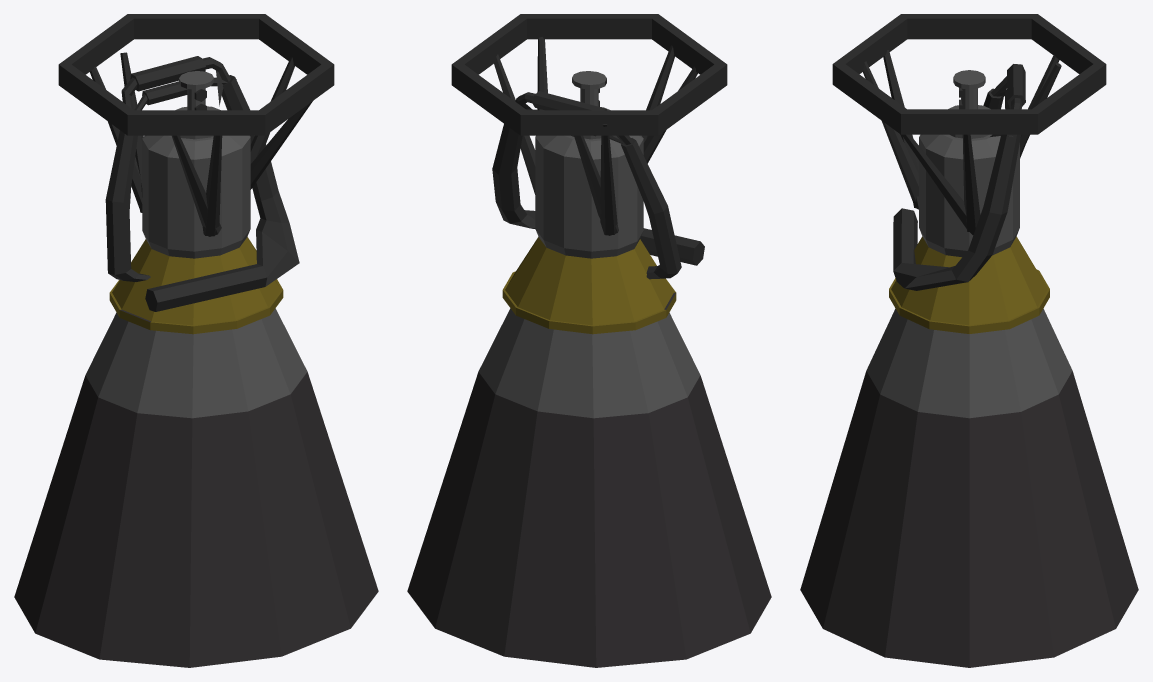
The picture shows the model from 3 angles, left to right: view 1: azimuth 30°, elevation 25°; view 2: azimuth 150°, elevation 25°; view 3: azimuth 270°, elevation 25°; orthographic projection.
Visible parts, largest first — view 1: Cylinder.001; view 2: Cylinder.001; view 3: Cylinder.001.
Boxes of the visible parts, x1,y1,x2,y2 form: Cylinder.001: [14, 14, 378, 667]; Cylinder.001: [407, 14, 771, 667]; Cylinder.001: [800, 14, 1138, 667].
Size of the model in its own units: 1.89 by 2.96 by 1.73.
